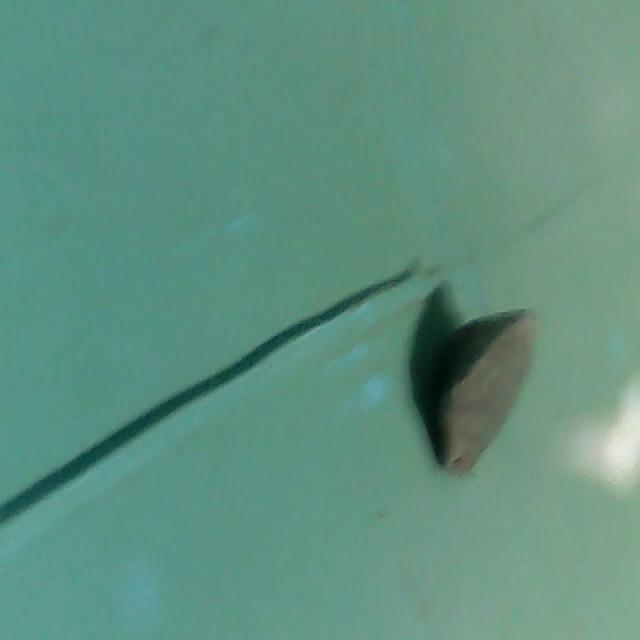rock: (419, 284, 551, 487)
